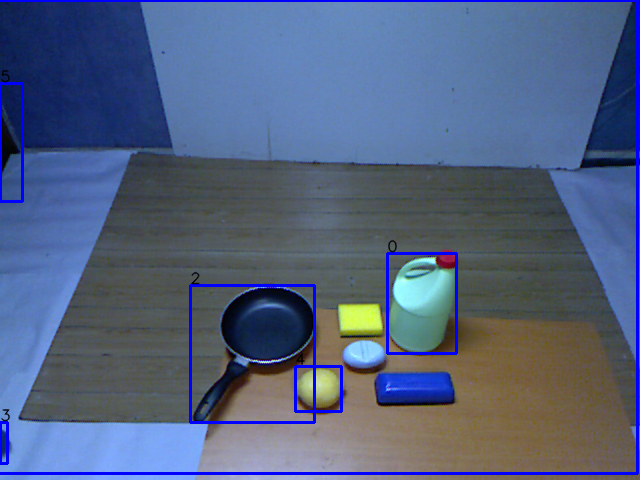borrador: (370, 366, 459, 410)
cloroplano: (385, 244, 463, 360)
esponja: (332, 298, 387, 339)
jabon: (335, 337, 390, 374)
limon: (288, 364, 348, 416)
sarten: (181, 275, 326, 429)
